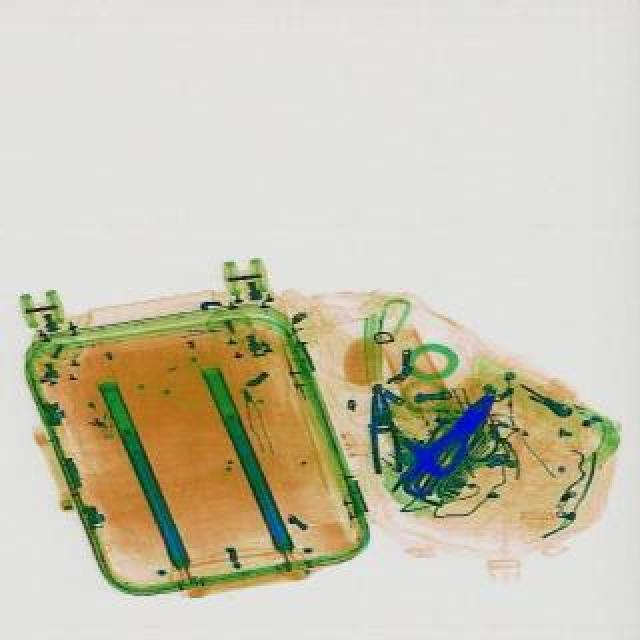wrench: (396, 386, 508, 502), (366, 392, 406, 476)
